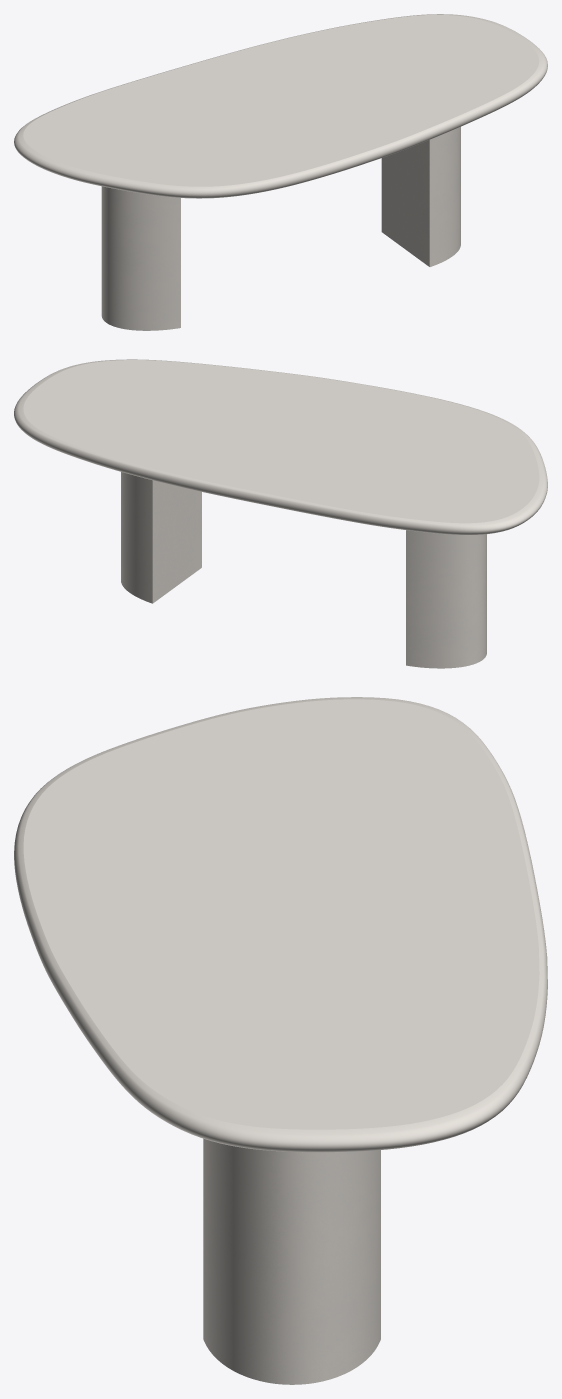
The model's file is pearlwhite_leaf2_round_hillside.glb.
The picture shows the model from 3 angles, top to bottom: view 1: azimuth 30°, elevation 25°; view 2: azimuth 150°, elevation 25°; view 3: azimuth 270°, elevation 25°; orthographic projection. The views are drawn at different scales.
Parts seen in each view (by area): view 1: round_leaf2, hillside; view 2: round_leaf2, hillside; view 3: round_leaf2, hillside.
Boxes of the visible parts, bbox=[...] form: round_leaf2: bbox=[14, 14, 547, 198]; hillside: bbox=[101, 127, 460, 330]; round_leaf2: bbox=[14, 359, 547, 535]; hillside: bbox=[121, 472, 486, 668]; round_leaf2: bbox=[14, 697, 547, 1152]; hillside: bbox=[203, 1138, 380, 1384].
Size of the model in its own units: 7.5 by 2.52 by 3.8.
1 material, 1 textured.
